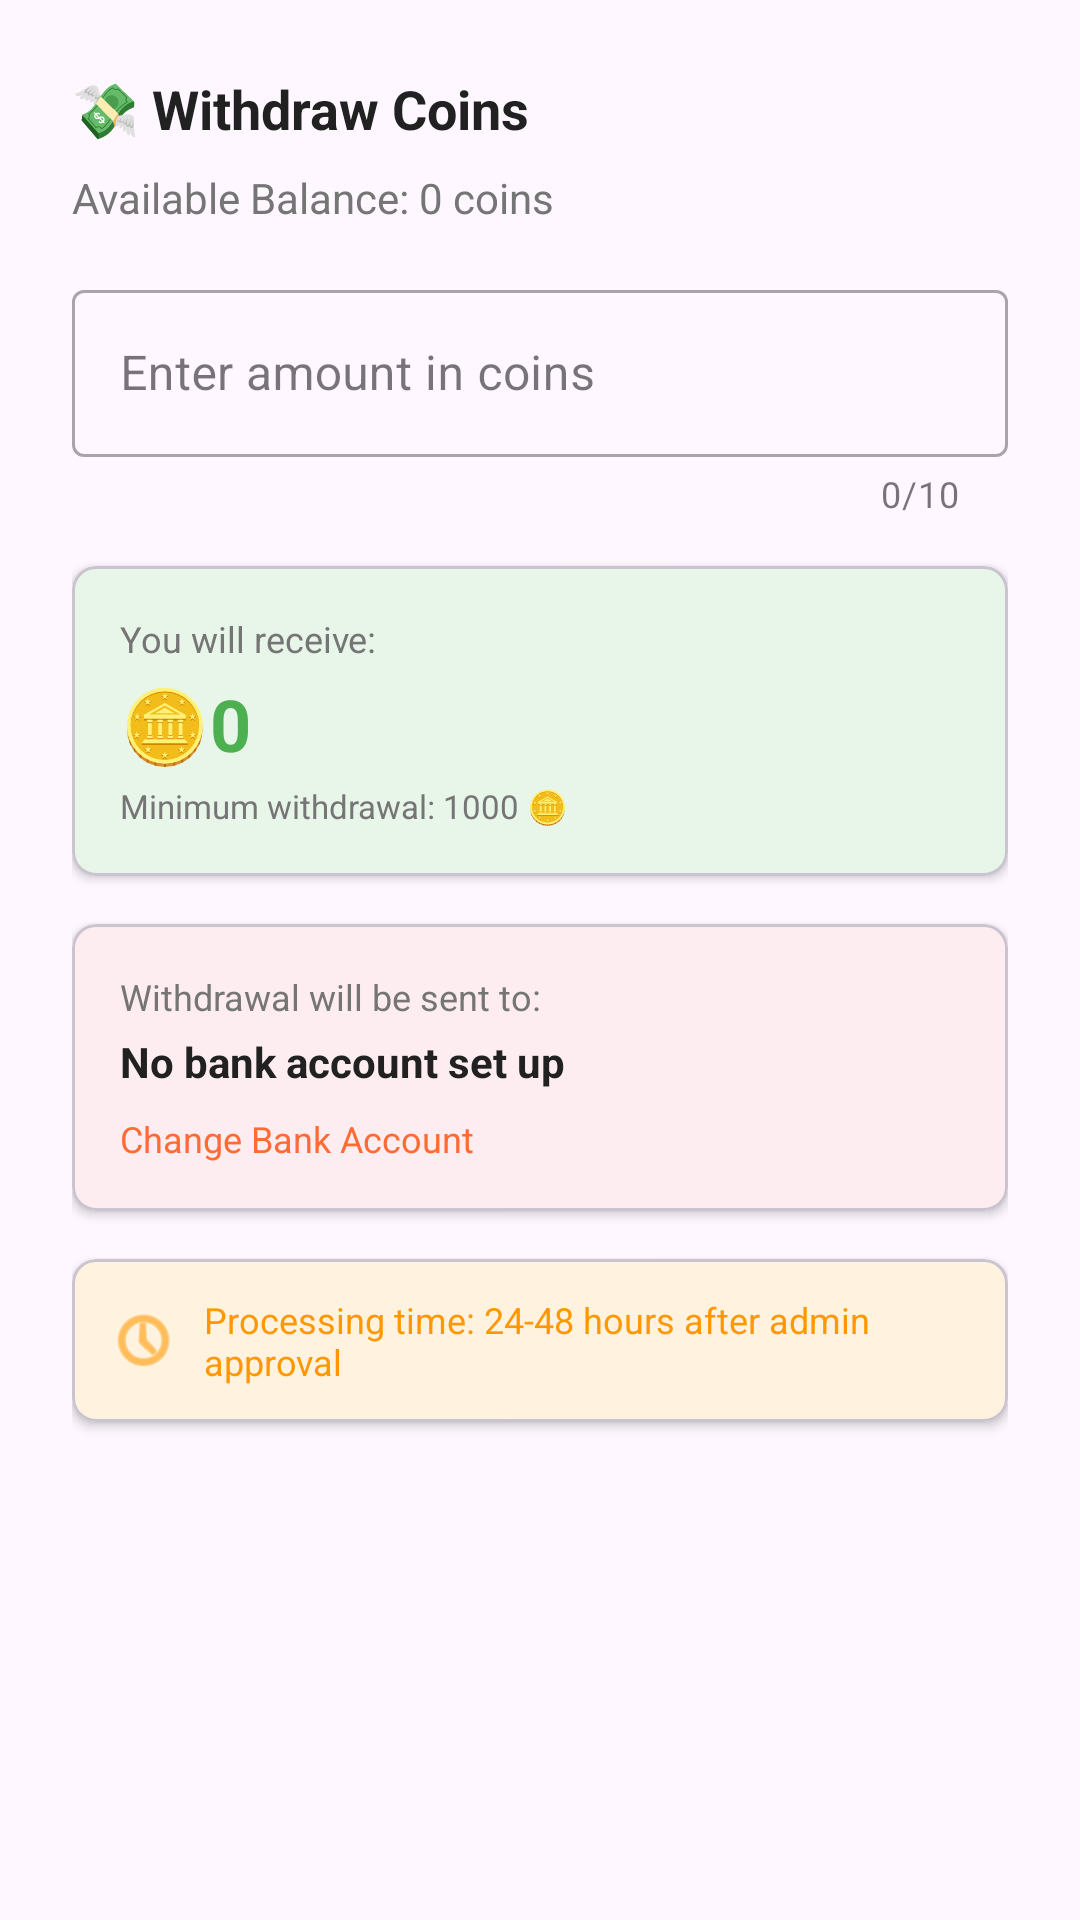

Icons on this 1080 × 1920 Android screen, each with the point to tap as (x,y):
recent history: (144,1340)
